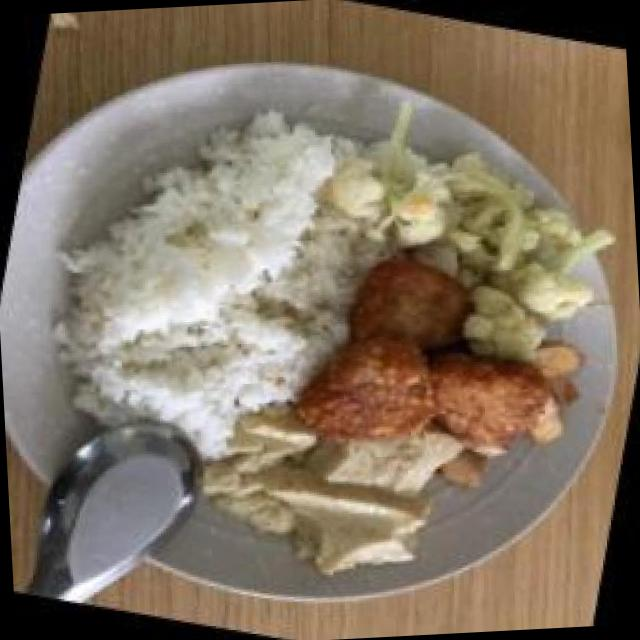rice: (4, 66, 416, 493)
triangle_hash_brown: (284, 236, 584, 492)
